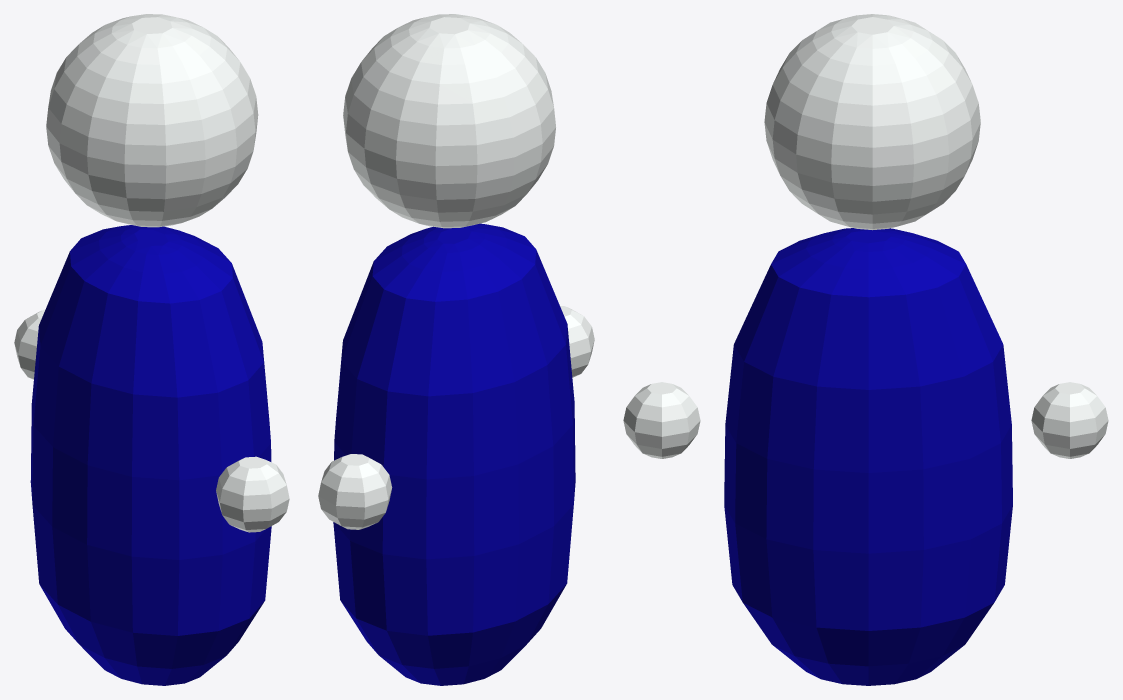
Rendered from goodguy.fbx.
3 renders of one model, left to right at view 1: azimuth 30°, elevation 25°; view 2: azimuth 150°, elevation 25°; view 3: azimuth 270°, elevation 25°, orthographic.
Parts seen in each view (by area): view 1: Cylinder_Cylinder.001; view 2: Cylinder_Cylinder.001; view 3: Cylinder_Cylinder.001.
Part boxes in pixels (box(x1,y1,x2,y2)): Cylinder_Cylinder.001: box(14, 14, 289, 685); Cylinder_Cylinder.001: box(318, 14, 594, 685); Cylinder_Cylinder.001: box(623, 14, 1108, 685).
Bounding box in the file's own units: 105 × 323 × 219.
